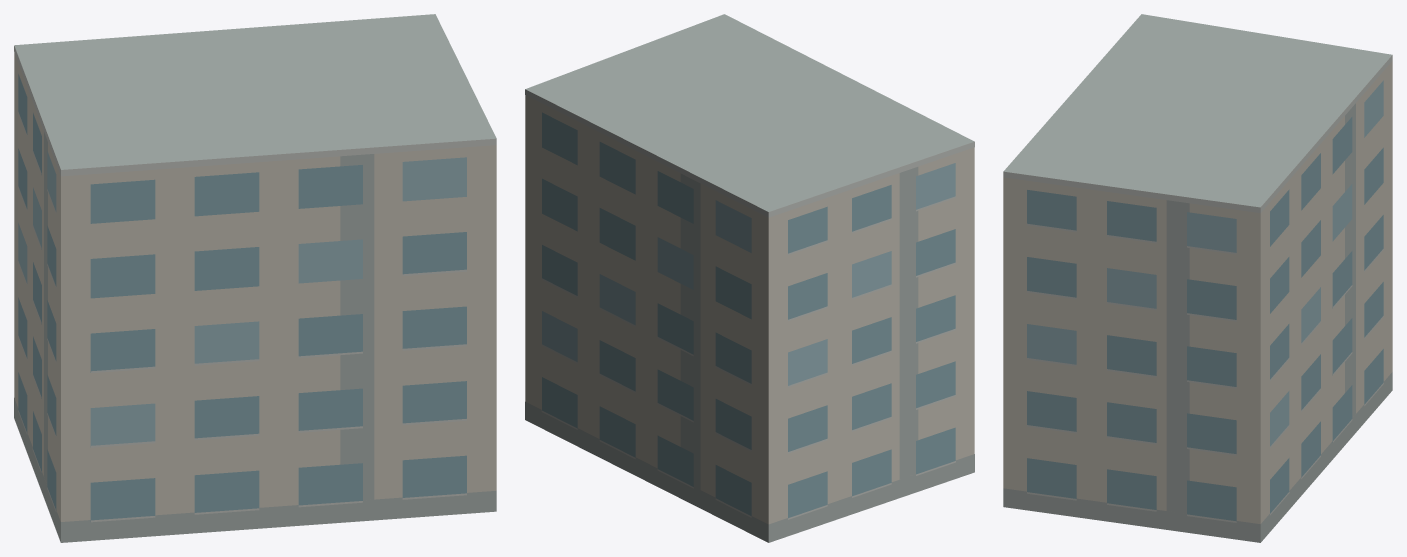
The model's file is survey-upis-32852686.glb.
The picture shows the model from 3 angles, left to right: view 1: azimuth 30°, elevation 25°; view 2: azimuth 150°, elevation 25°; view 3: azimuth 270°, elevation 25°; orthographic projection. The views are drawn at different scales.
Parts seen in each view (by area): view 1: survey-upis-32852686.tmp; view 2: survey-upis-32852686.tmp; view 3: survey-upis-32852686.tmp.
Boxes of the visible parts, x1=… form: survey-upis-32852686.tmp: x1=14, y1=14, x2=496, y2=542; survey-upis-32852686.tmp: x1=525, y1=14, x2=974, y2=542; survey-upis-32852686.tmp: x1=1003, y1=14, x2=1392, y2=542.
Size of the model in its own units: 17.57 by 14.2 by 14.95.
